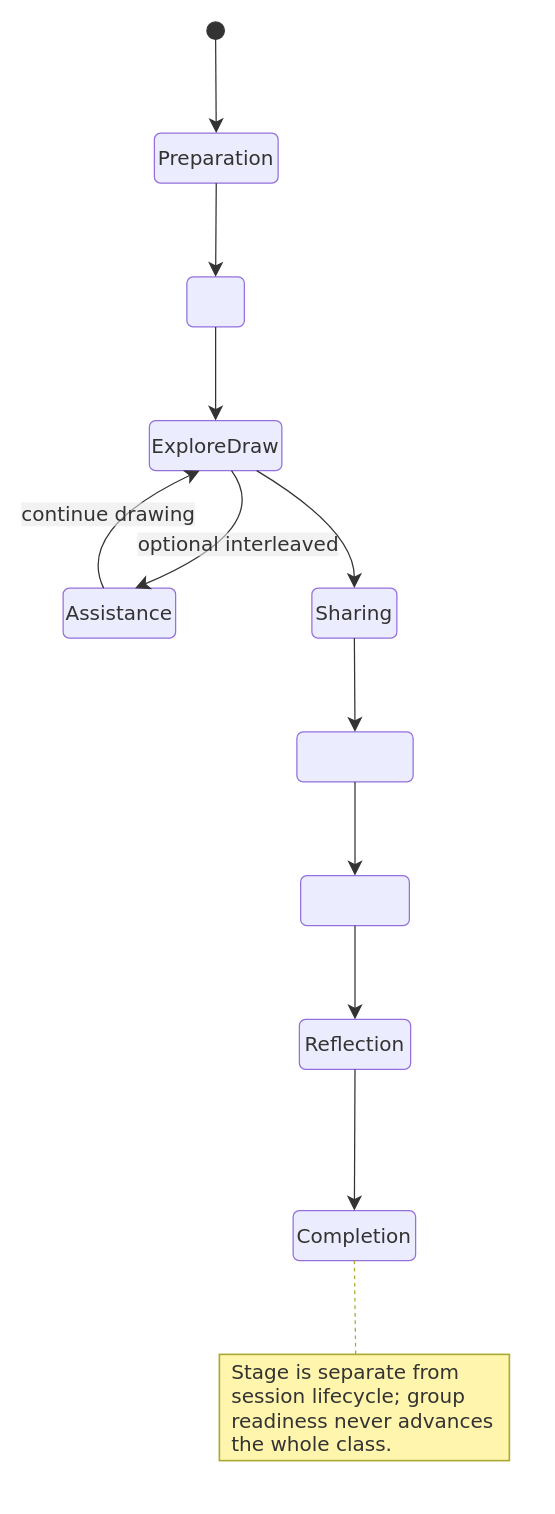
The diagram is 555 pixels wide and 1514 high, and some of its shapes have lost their labels. Each missing label, with the box of its shape:
Join: (186, 276, 244, 327)
Knowledge: (296, 731, 413, 782)
OffScreen: (299, 874, 409, 926)
